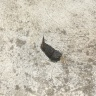Dog: (40, 35, 61, 60)
